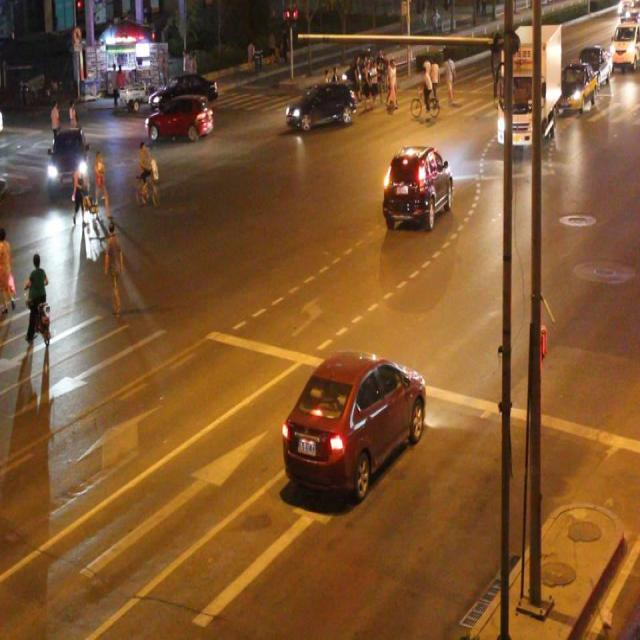bus: (496, 27, 559, 142)
car: (282, 351, 424, 489), (382, 144, 453, 225), (45, 126, 90, 201), (145, 96, 212, 140), (285, 85, 353, 125), (149, 74, 217, 110)
